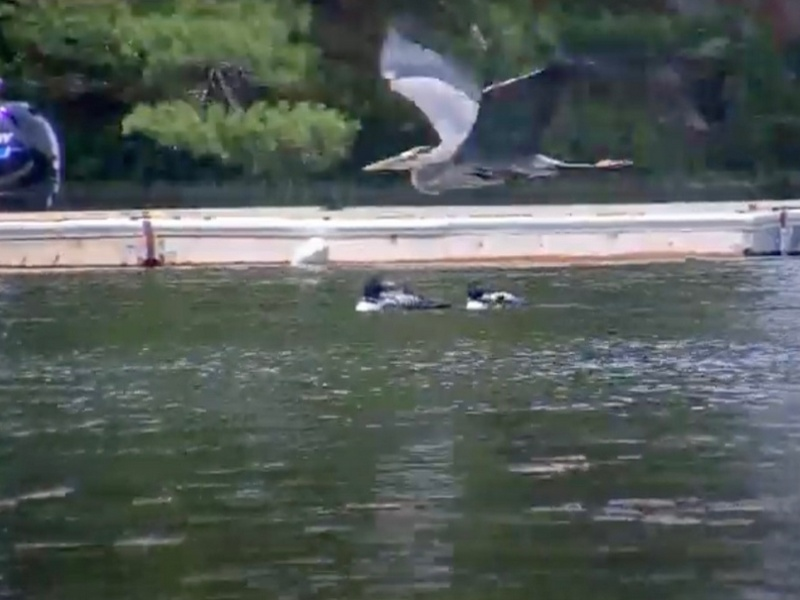heron: (352, 15, 636, 201)
